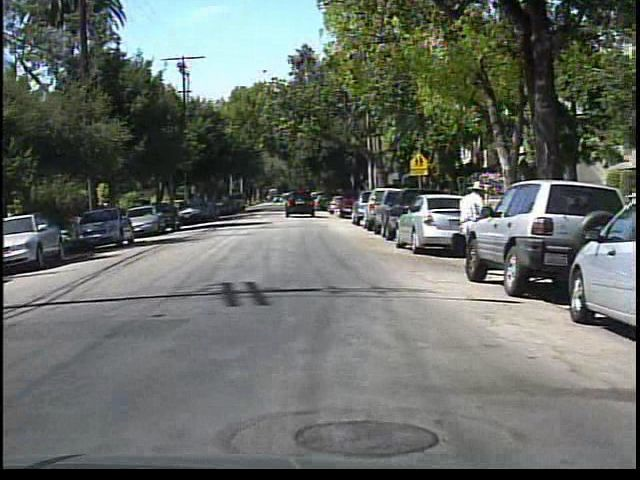person: (446, 180, 489, 280)
